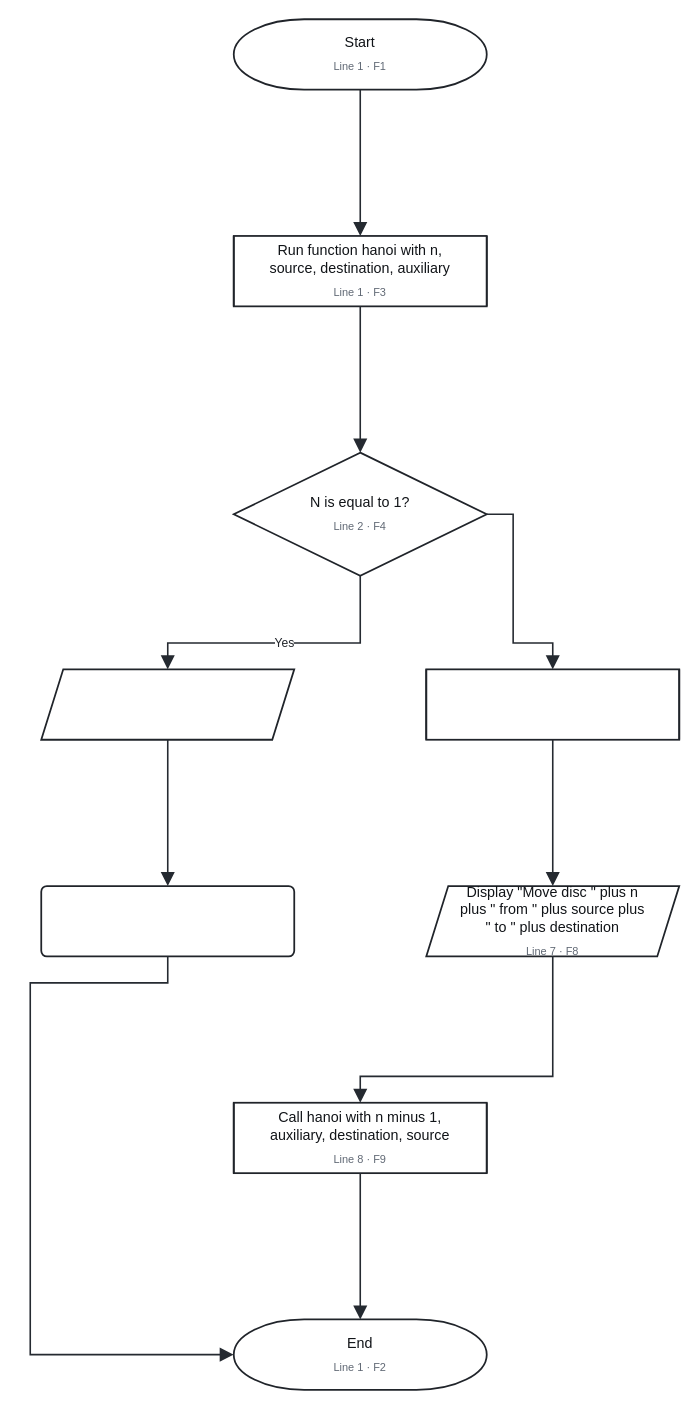
This 700x1410 diagram has some shape labels left out. Here are the shapes that lost their labels. From the top down, the centre of each, then its label:
[167,704]: Display "Move disc 1 from " plus source plus " to " plus destination Line 3 · F5
[552,704]: Call hanoi with n minus 1, source, auxiliary, destination Line 6 · F7
[167,921]: Return from the function Line 4 · F6
